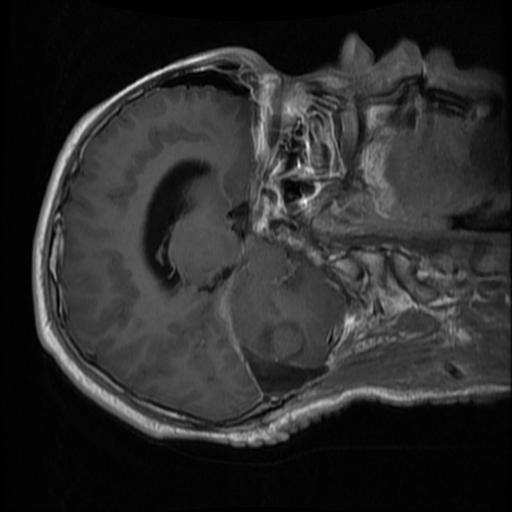glioma: (239, 345, 325, 393)
